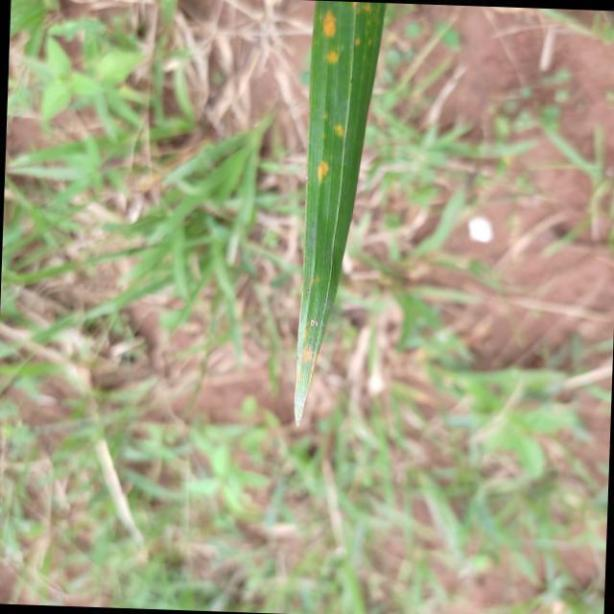Kalium: (291, 0, 393, 481)
